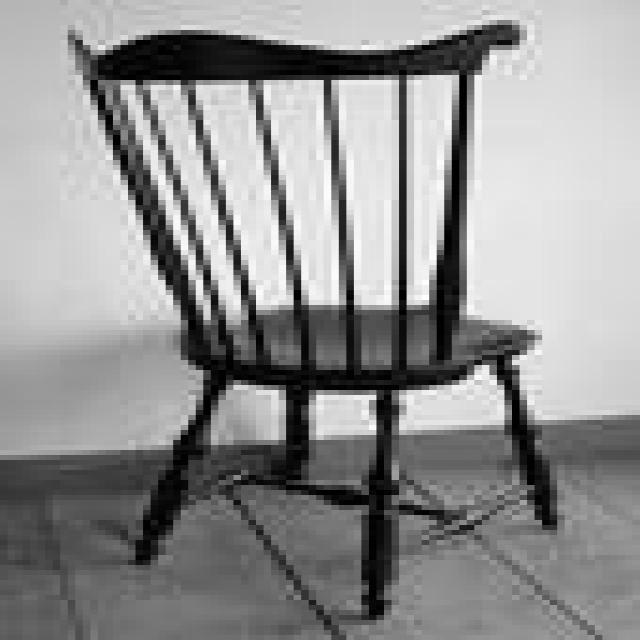chair: (63, 13, 567, 620)
